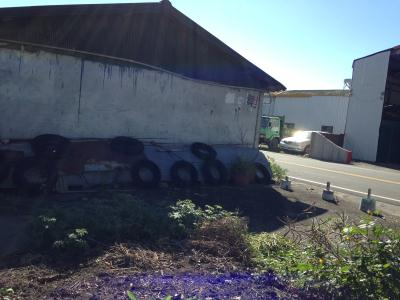tire: (131, 157, 162, 191), (169, 160, 200, 188), (200, 160, 228, 188), (191, 141, 219, 164)
